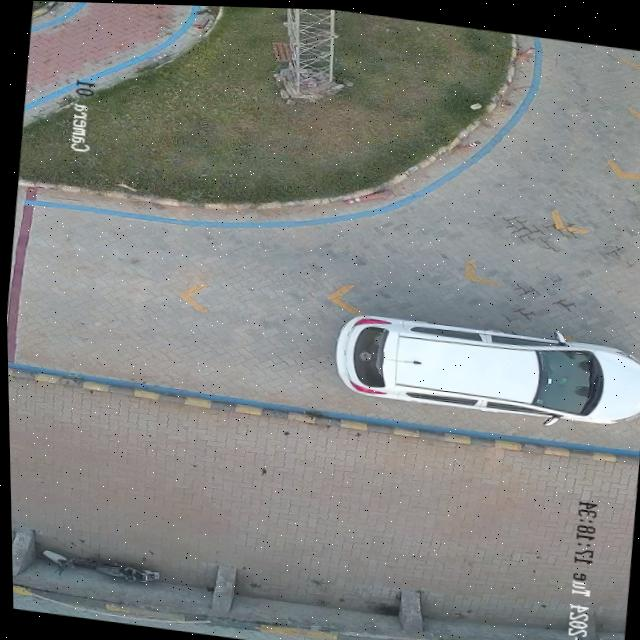car: (332, 312, 640, 421)
